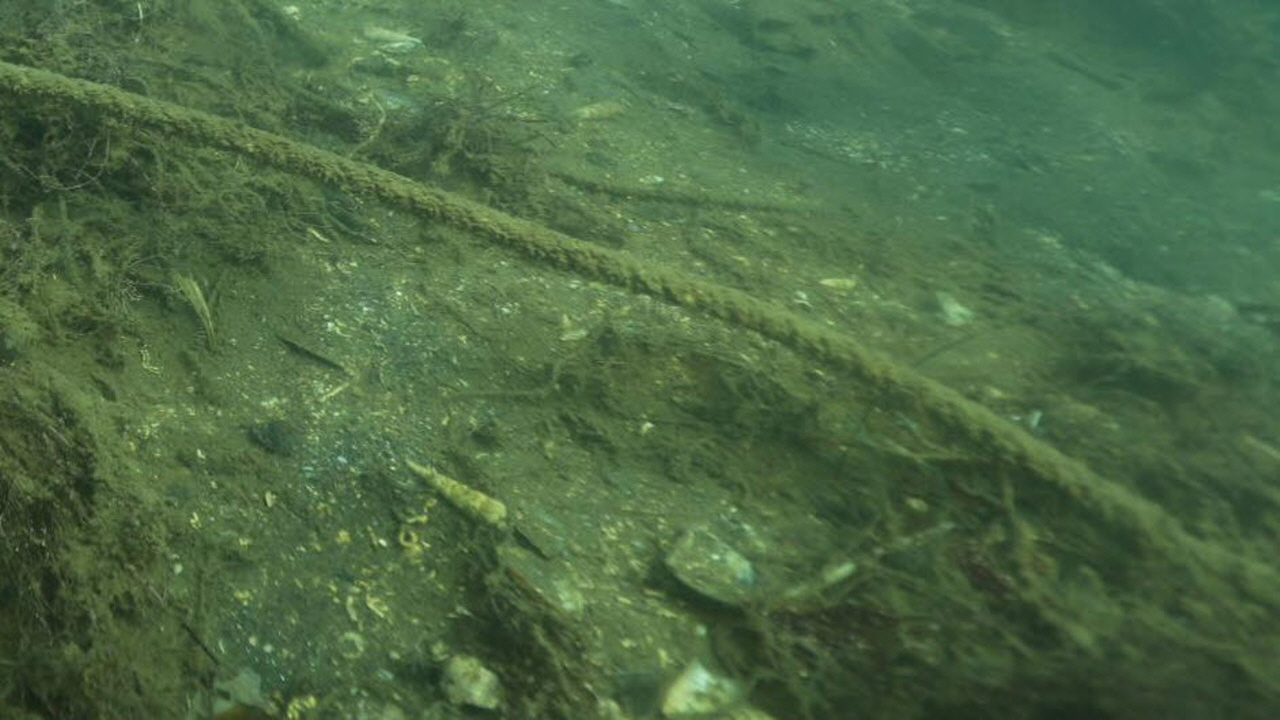rope: (0, 60, 1163, 548)
